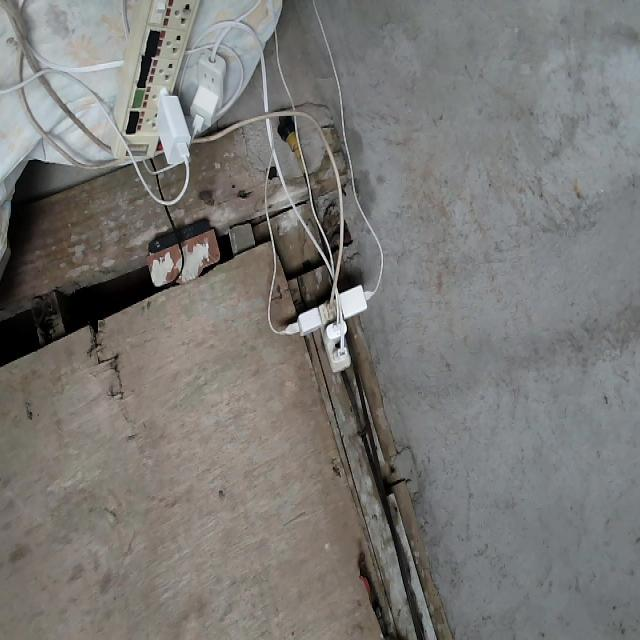-: (280, 283, 374, 376)
